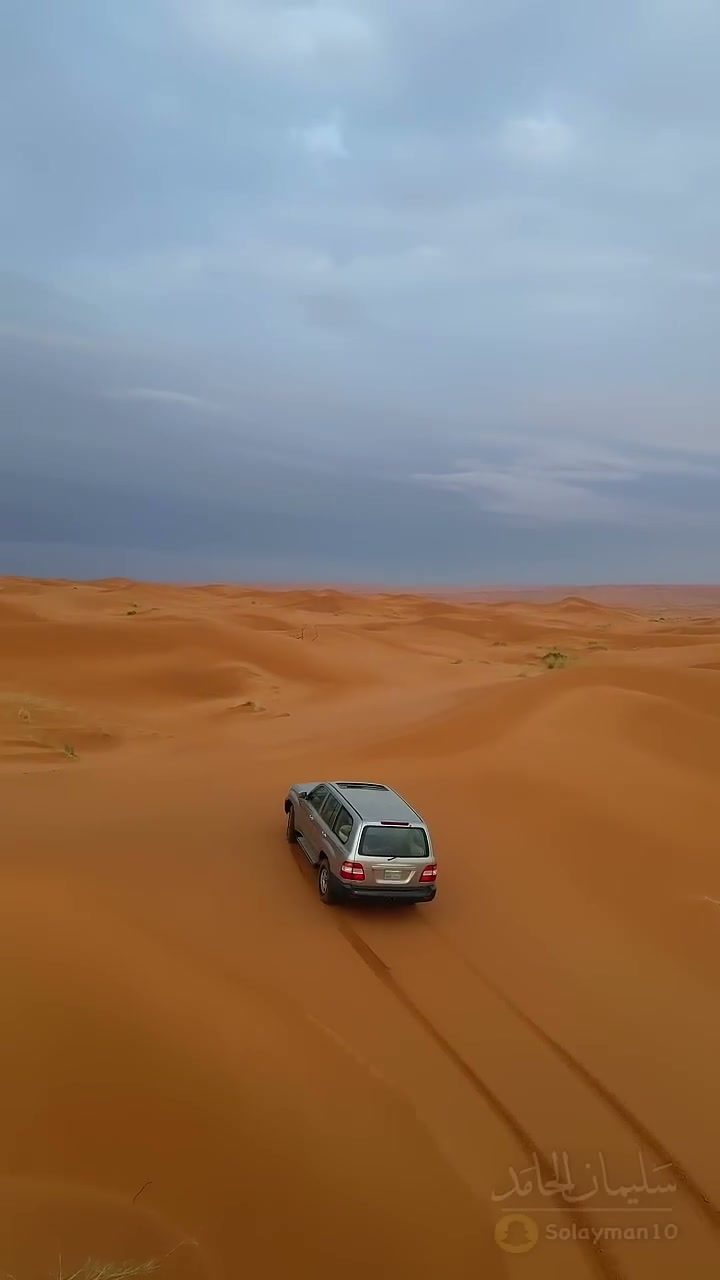vehicle_track: (421, 920, 719, 1231), (338, 919, 554, 1181)
